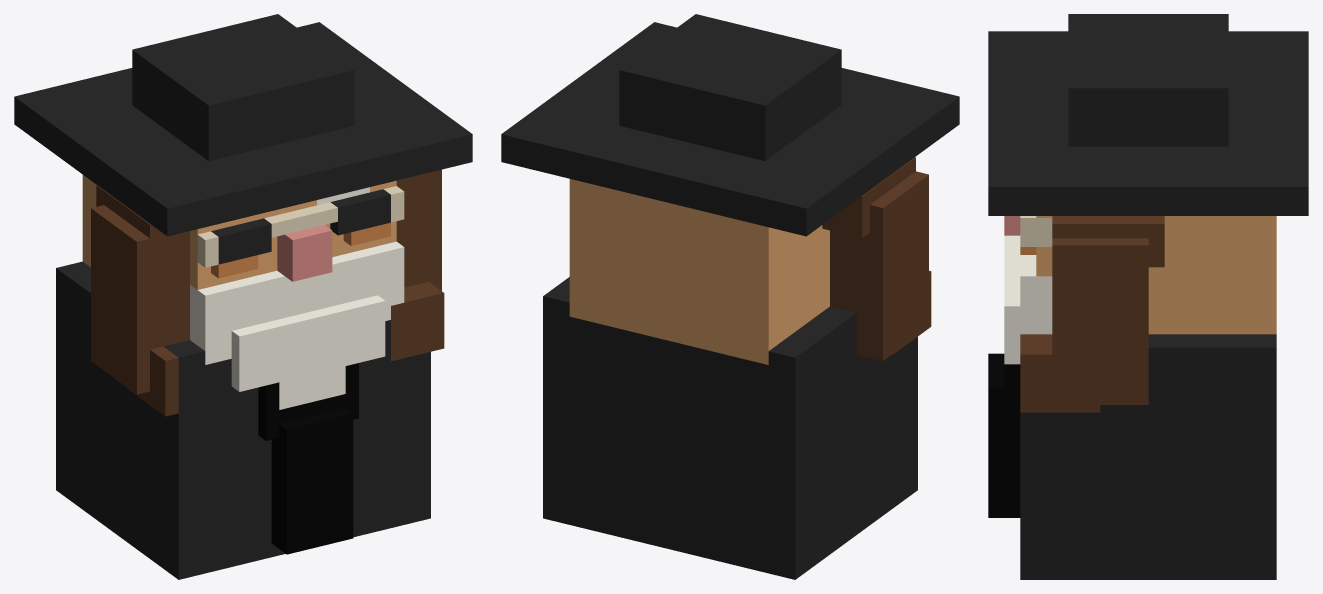
The model's file is rabbi.vox.obj.
3 views of the same model, side by side, from view 1: azimuth 30°, elevation 25°; view 2: azimuth 150°, elevation 25°; view 3: azimuth 270°, elevation 25° (orthographic). The views are drawn at different scales.
Size of the model in its own units: 2.3 by 3.2 by 2.
1 material, 1 textured.
